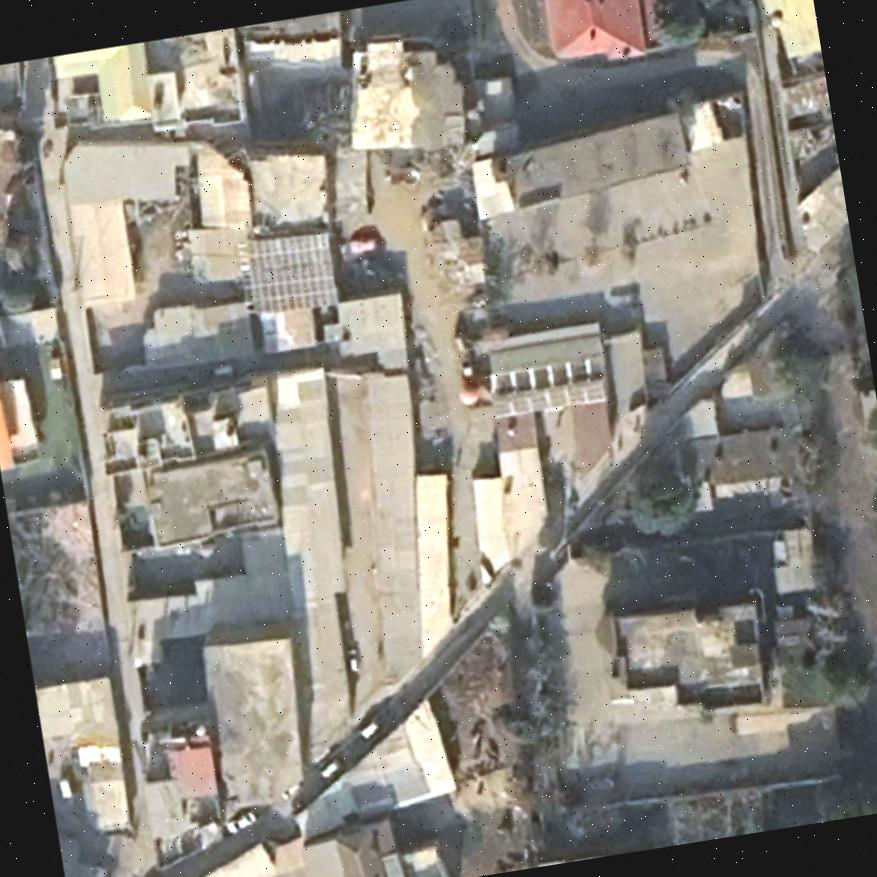Solarpanel: (240, 226, 339, 318), (489, 376, 608, 422)
